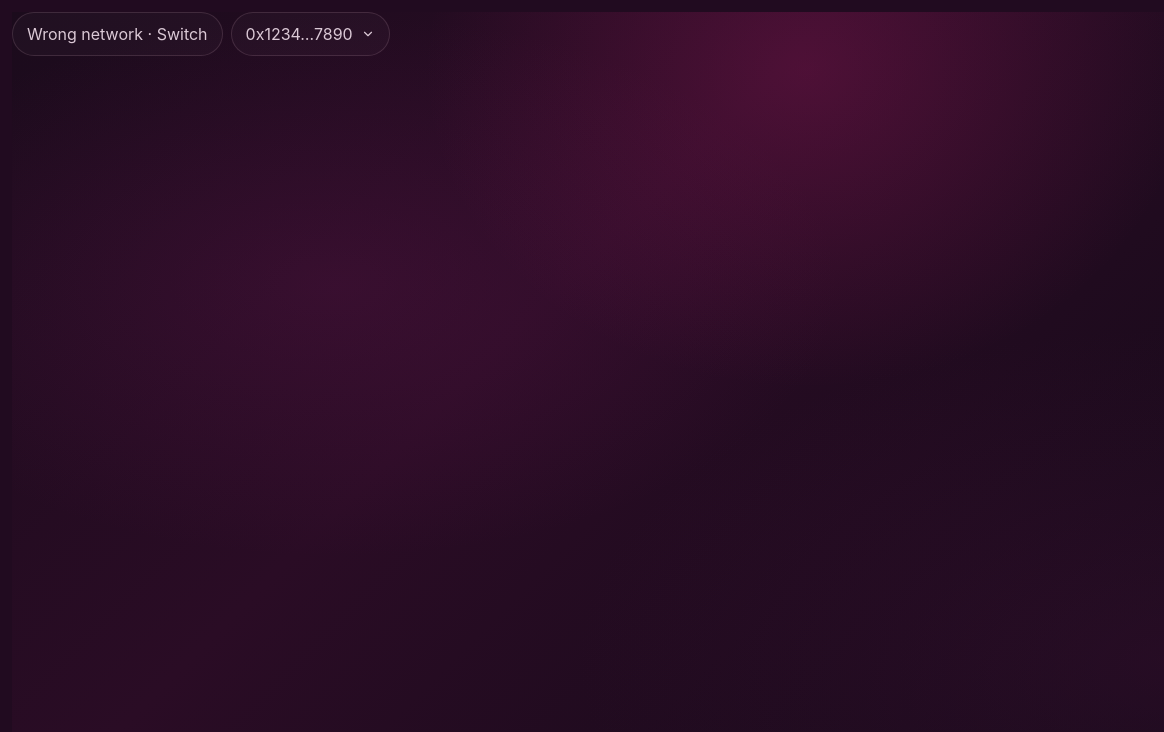
injected wallet control › surfaces a rejected network switch and keeps the wallet gated
Click the button "Wrong network · Switch" at point(117, 34), box [12,12,223,56]
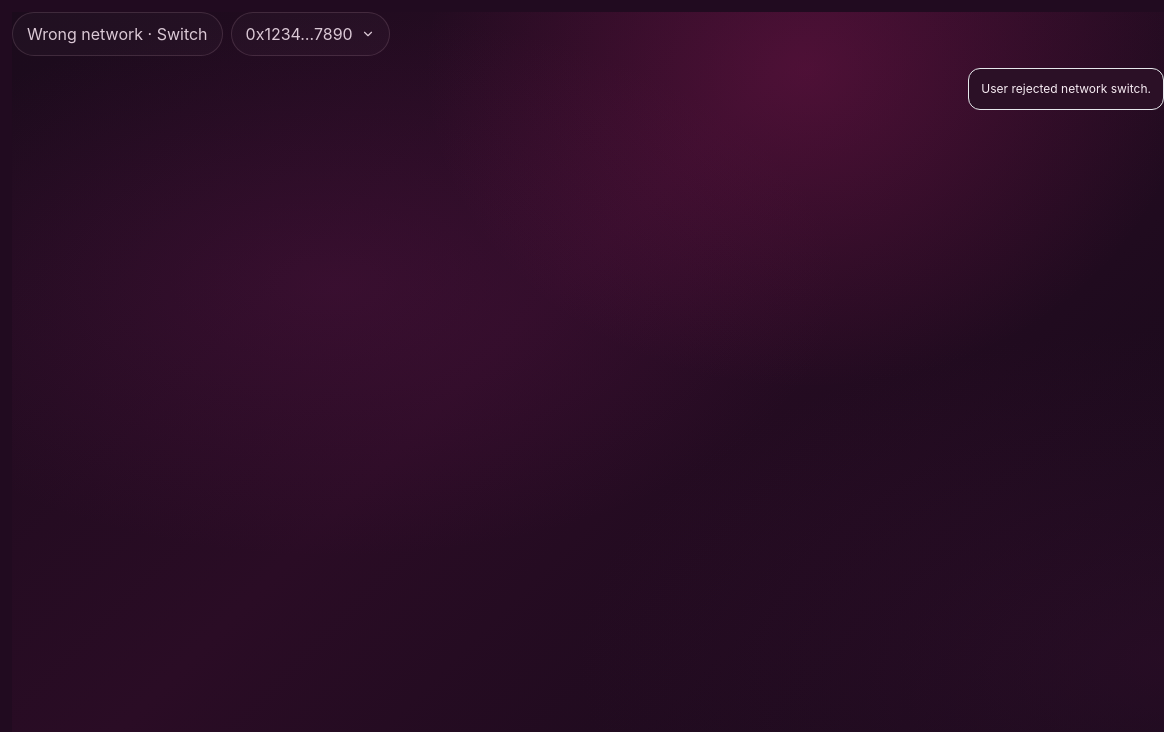
Now the message reads "User rejected network switch.", box [981,81,1151,96]
